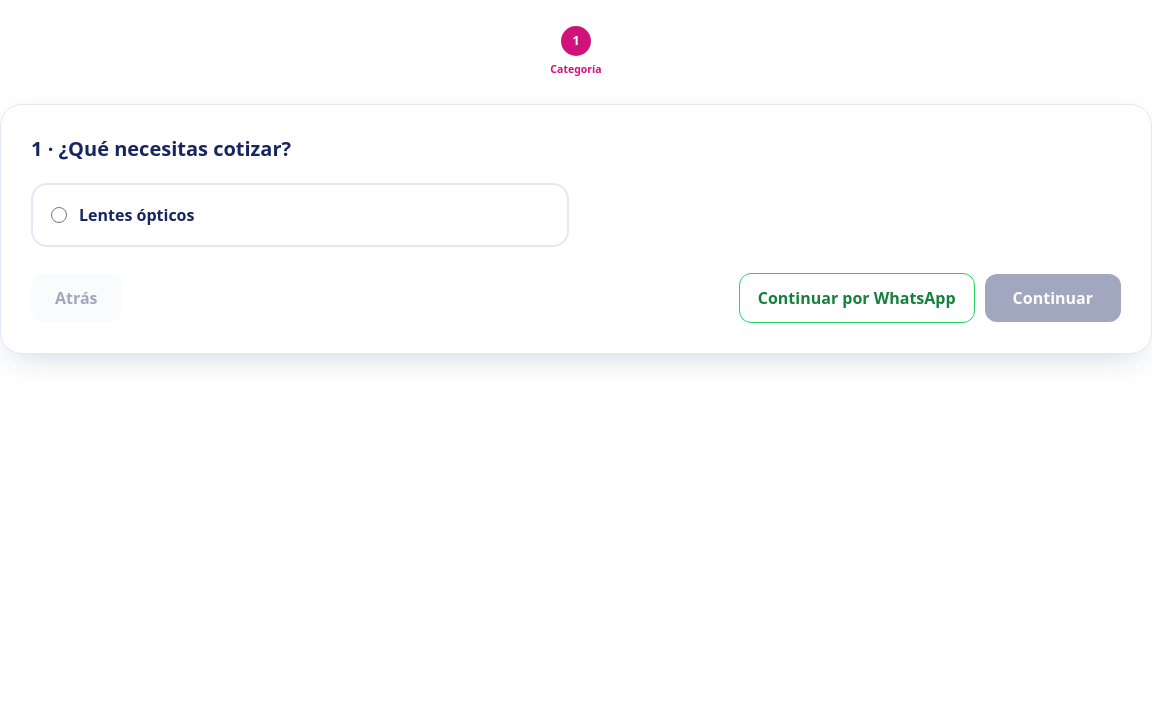
Test case: components/quote/QuoteWizard › el paso de tratamientos ópticos nunca muestra Polarizado (exclusivo de lentes de sol) ni Hidrofóbico
The width and height of the screenshot is (1152, 720).
Click the radio button labelled "Lentes ópticos" at (59, 215), box [51, 207, 67, 223]
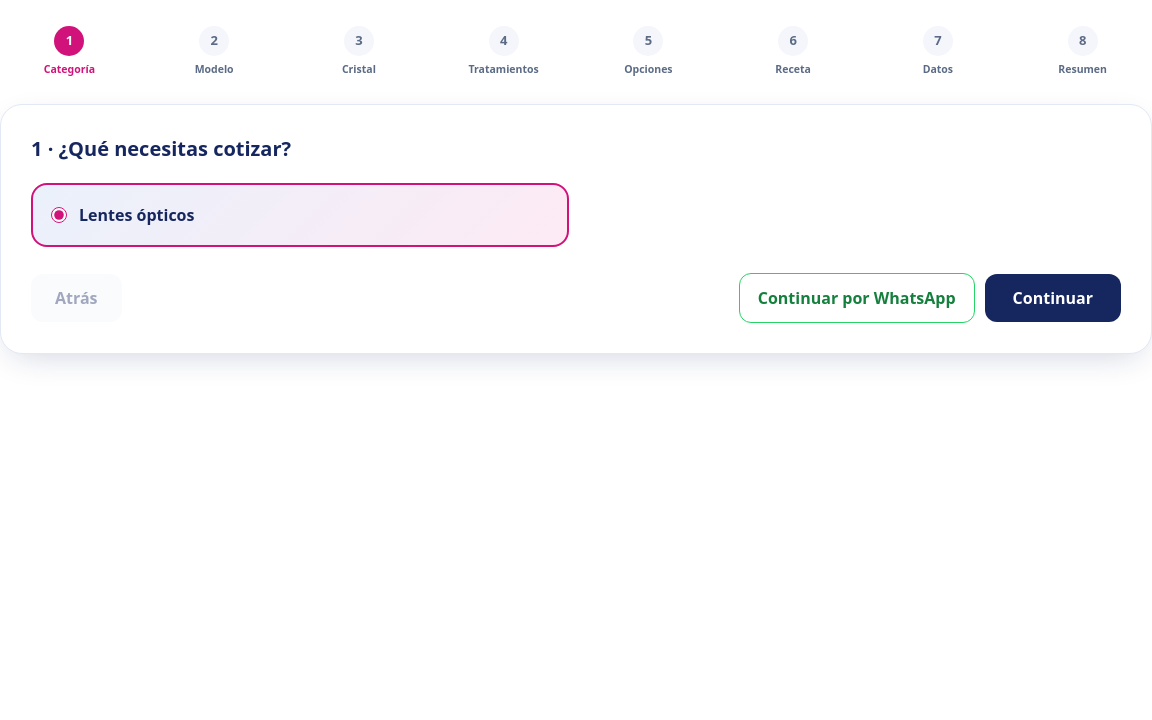
Click the button "Continuar" at (1053, 298), box [985, 274, 1121, 322]
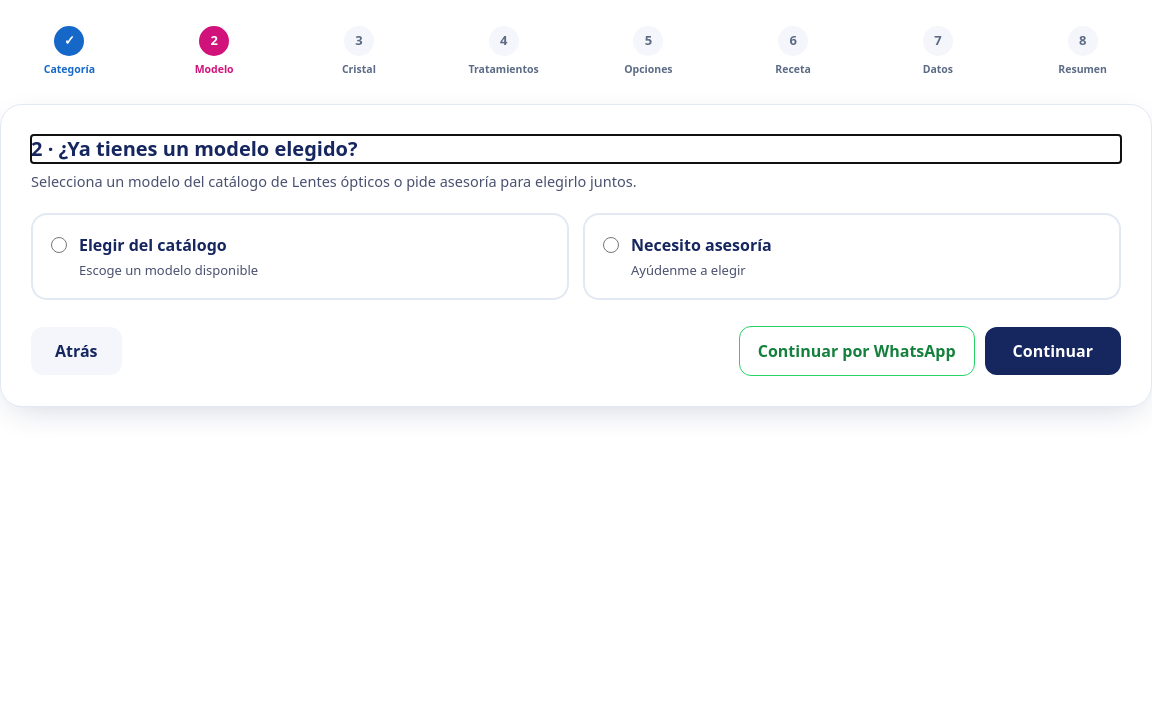
Click the radio button labelled "Necesito asesoría" at (611, 244), box [603, 236, 619, 252]
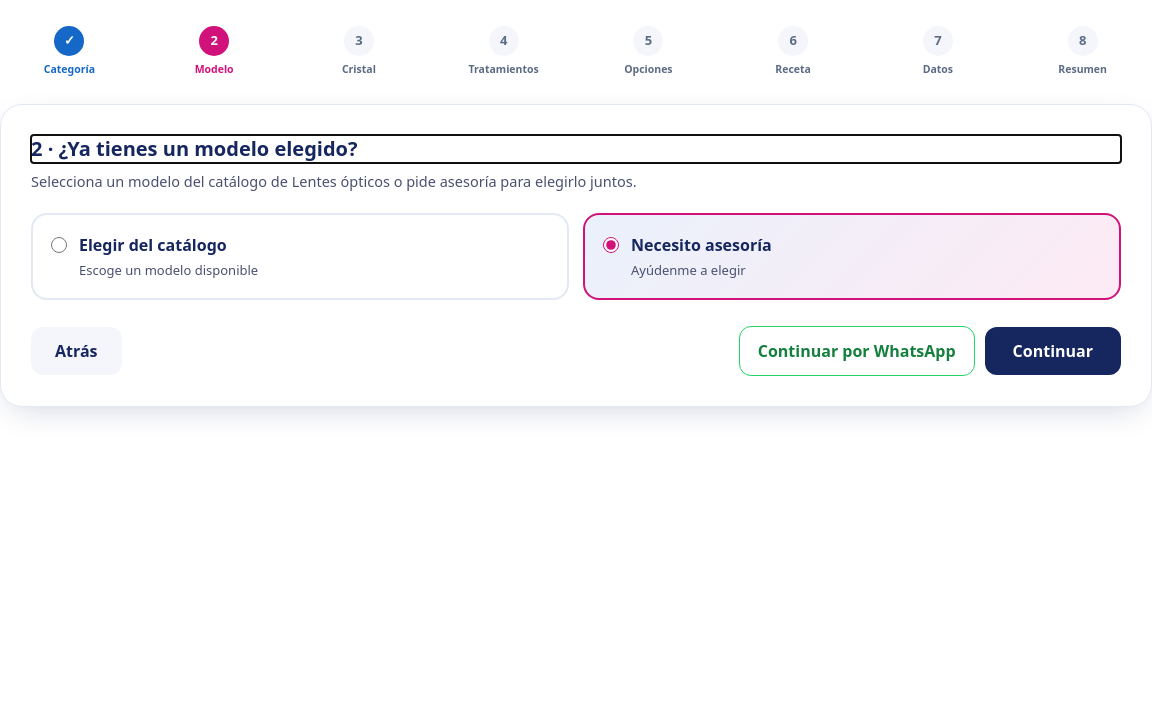
Click the button "Continuar" at (1053, 351), box [985, 327, 1121, 375]
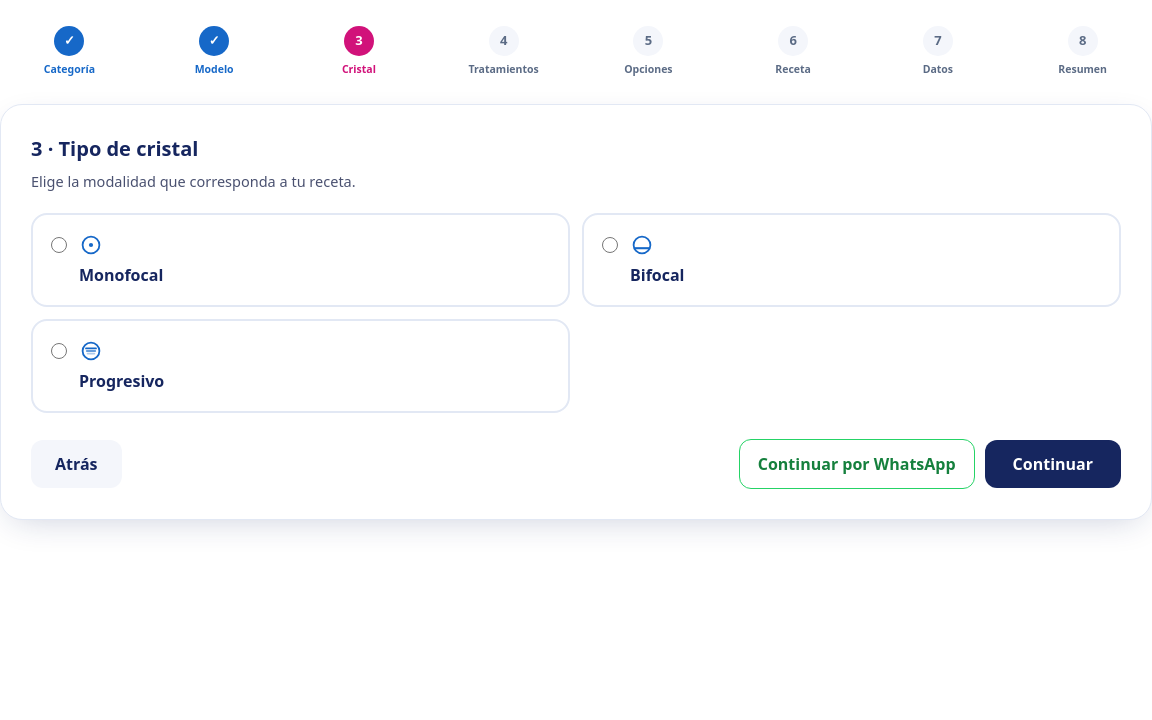
Click the radio button labelled "Monofocal" at (59, 244), box [51, 236, 67, 252]
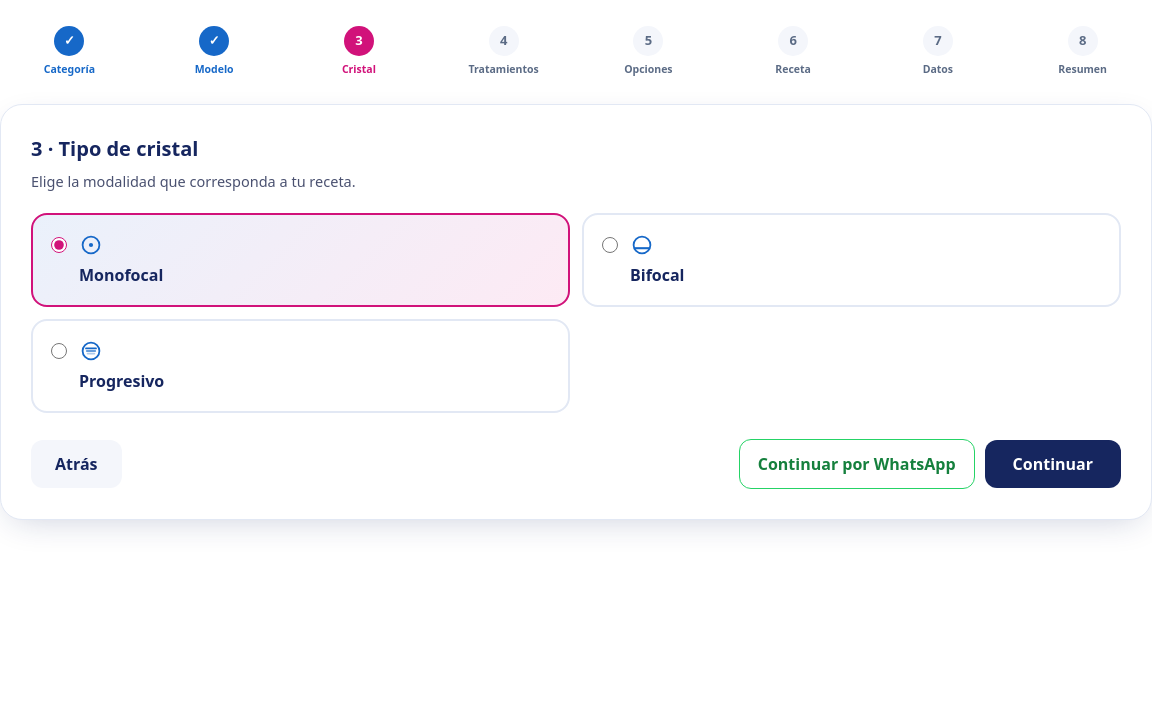
Click the button "Continuar" at (1053, 464), box [985, 440, 1121, 488]
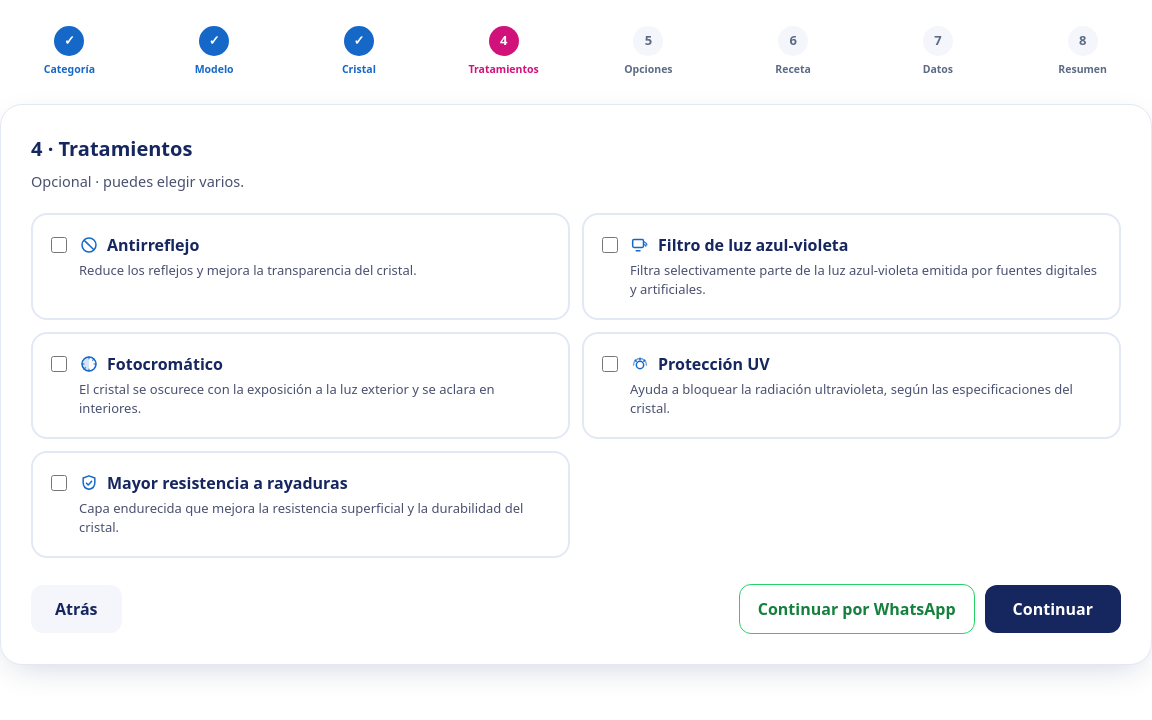
Expected: the text "4 · Tratamientos" is shown, [31, 135, 192, 163]
Expected: the checkbox labelled "Antirreflejo" is shown, [51, 236, 67, 252]
